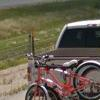Bicycle: (20, 49, 100, 100)
